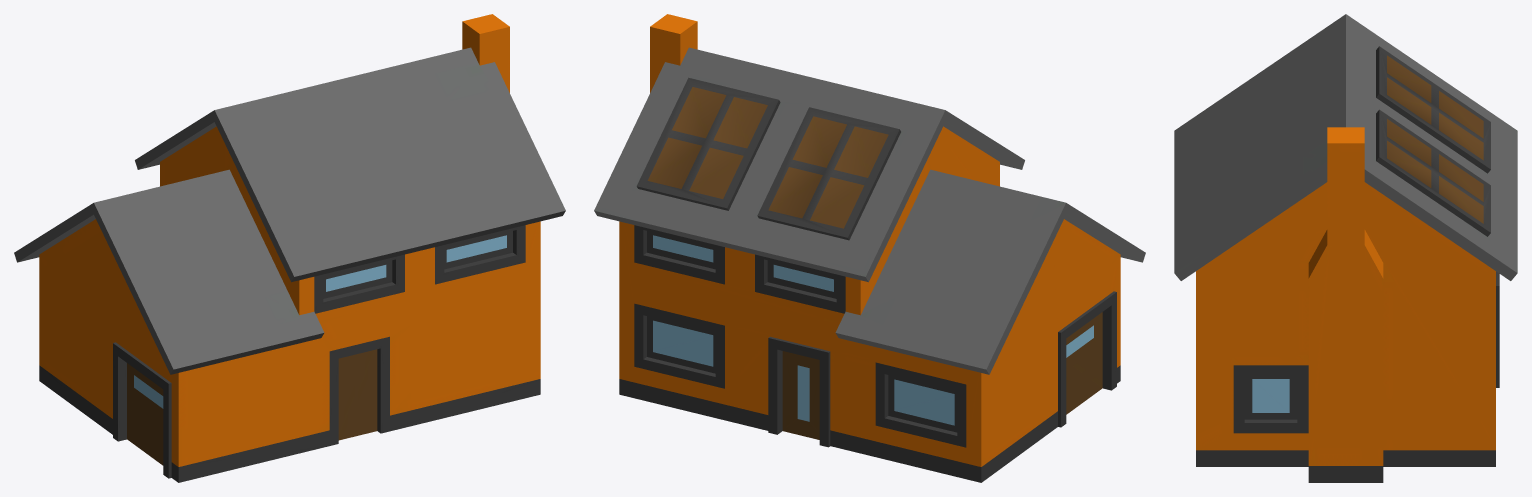
Rendered from house_type13.fbx.
3 views of the same model, side by side, from view 1: azimuth 30°, elevation 25°; view 2: azimuth 150°, elevation 25°; view 3: azimuth 270°, elevation 25° (orthographic). The views are drawn at different scales.
Parts seen in each view (by area): view 1: house_type13; view 2: house_type13; view 3: house_type13.
Boxes of the visible parts, left/top/right/bottom form: house_type13: left=14, top=14, right=565, bottom=482; house_type13: left=594, top=14, right=1145, bottom=482; house_type13: left=1174, top=14, right=1517, bottom=482.
Size of the model in its own units: 13.5 by 10 by 9.16.
Materials: 1 (1 with a texture image).
